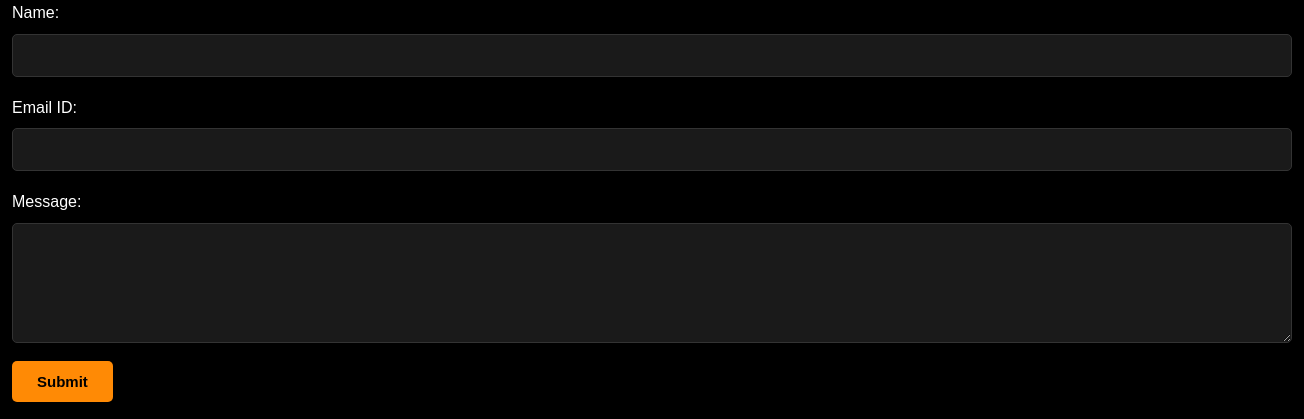
ContactForm › hides form after successful submission
The image size is (1304, 419).
Type "John Doe" into the field labelled "Name:" at (652, 55), box [12, 34, 1292, 77]
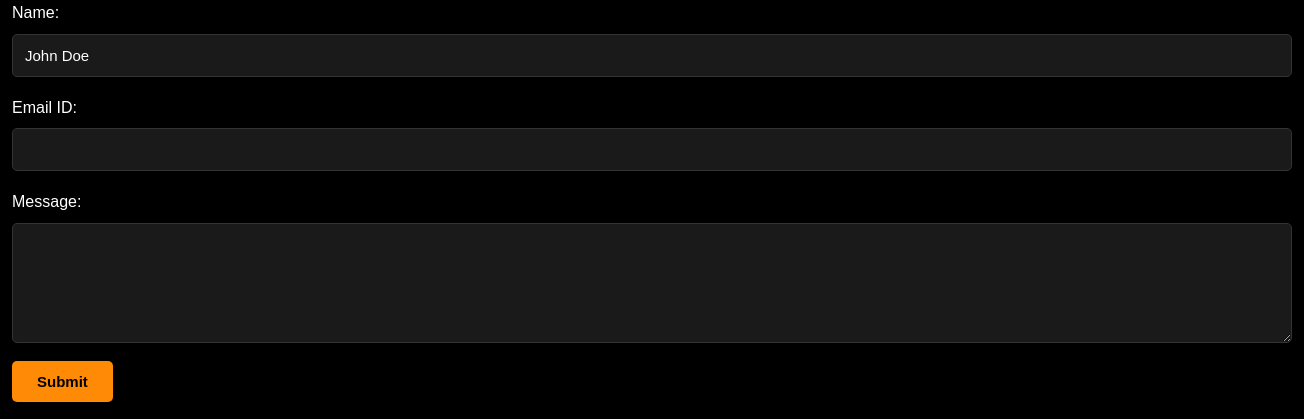
Type "john@example.com" into the field labelled "Email ID:" at (652, 150), box [12, 128, 1292, 171]
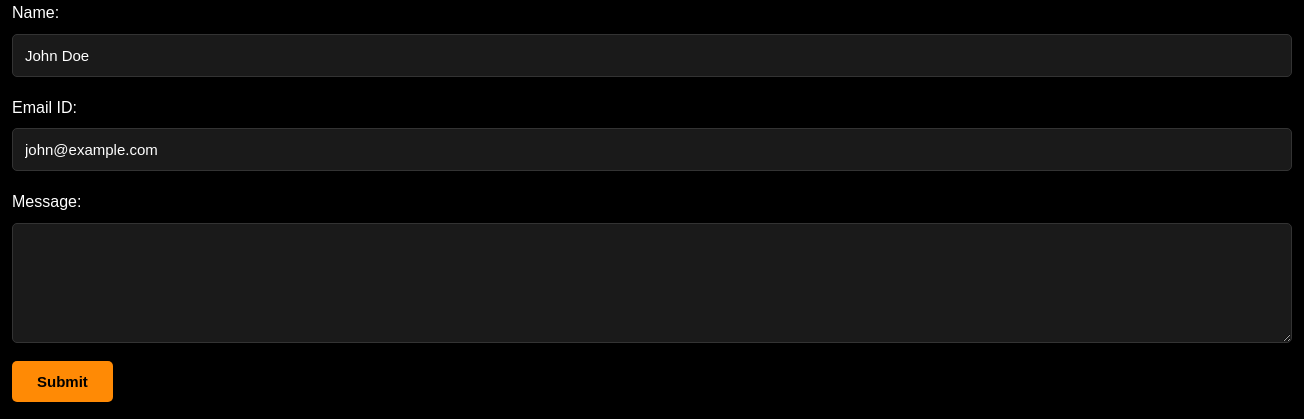
Type "Hello there" into the text box labelled "Message:" at (652, 283), box [12, 223, 1292, 343]
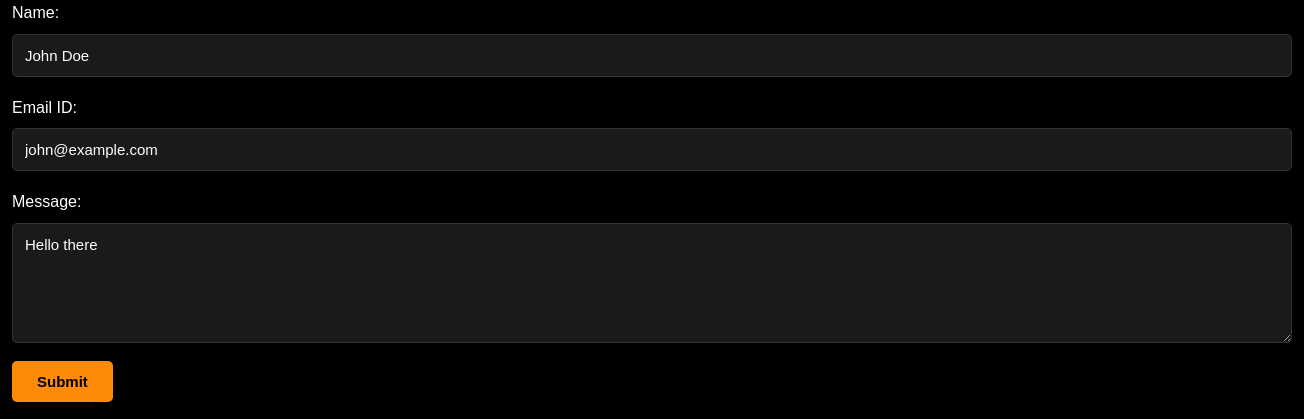
Submit the form "Submit"
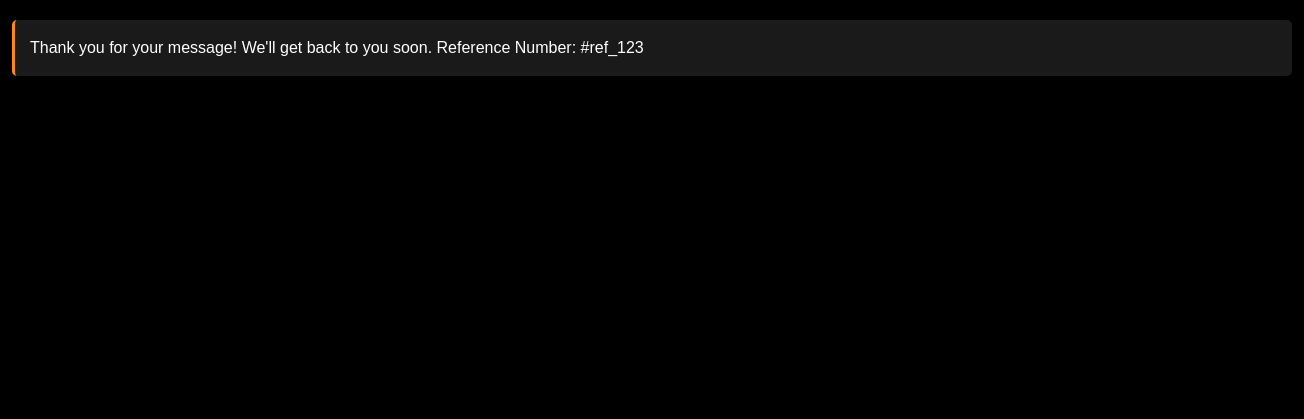
Expected: the button "Submit" is gone
